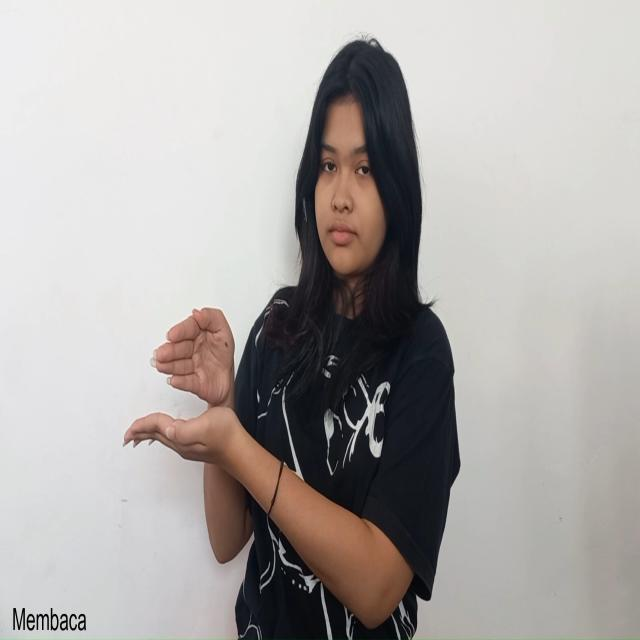Membaca -BISINDO-: (121, 308, 236, 460)
